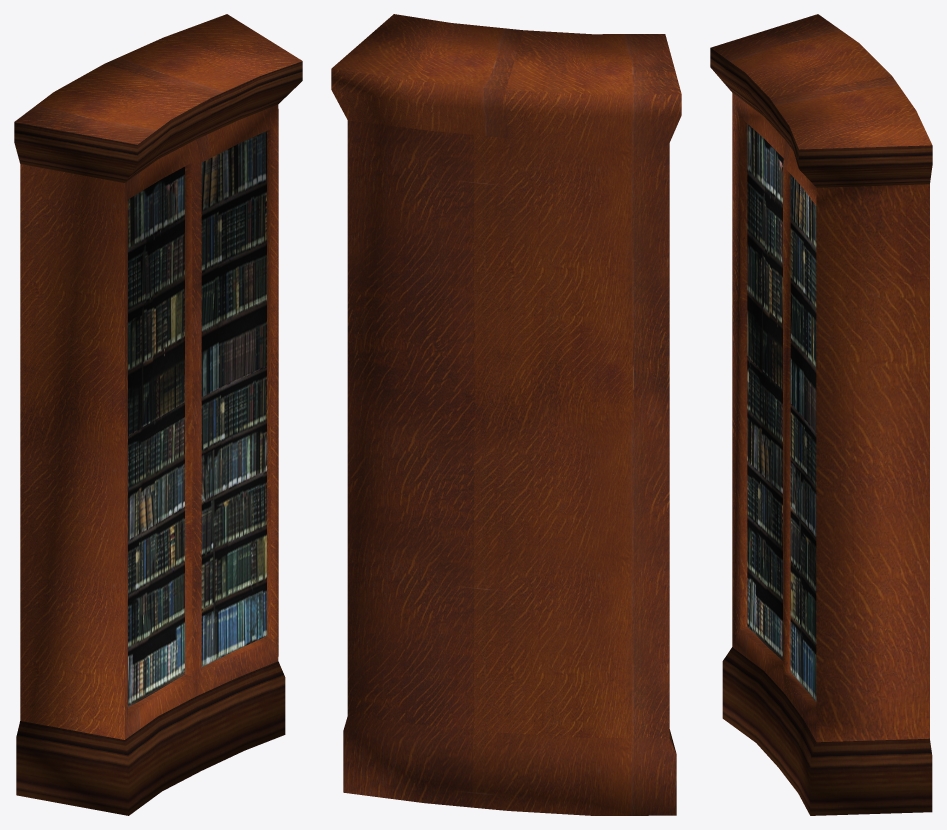
Rendered from Bookcase_round_Short1.fbx.
3 renders of one model, left to right at view 1: azimuth 30°, elevation 25°; view 2: azimuth 150°, elevation 25°; view 3: azimuth 270°, elevation 25°, orthographic. The views are drawn at different scales.
Parts seen in each view (by area): view 1: Bookcaseshortcurved2; view 2: Bookcaseshortcurved2; view 3: Bookcaseshortcurved2.
Part boxes in pixels (box(x1,y1,x2,y2)): Bookcaseshortcurved2: box(14, 14, 302, 815); Bookcaseshortcurved2: box(331, 14, 681, 815); Bookcaseshortcurved2: box(710, 14, 932, 815).
Bounding box in the file's own units: 200 × 463 × 139.
